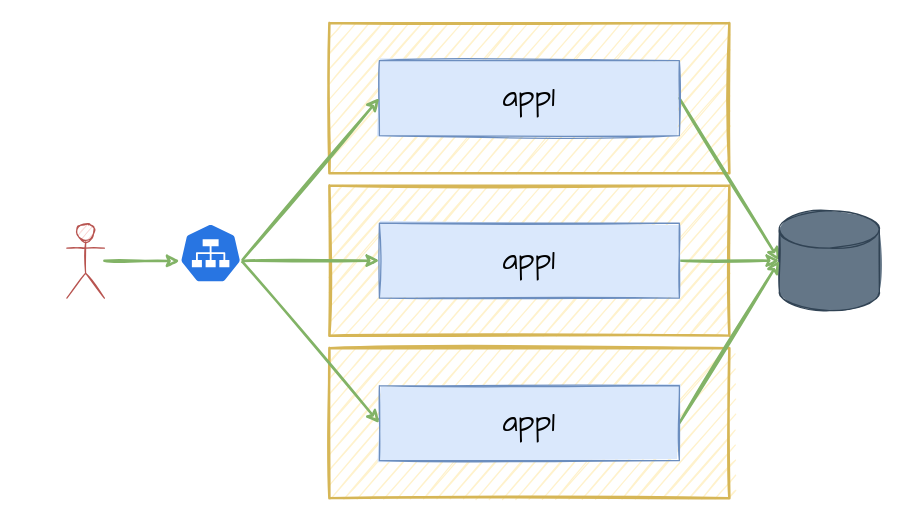
Image size: 901x520. Some labels were removed from this diagram. The centre of each missing label's shape, as x and y in pixels:
DB: [828,260]
Пользователь: [85,260]
